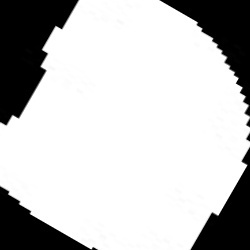spot: (2, 1, 247, 248)
